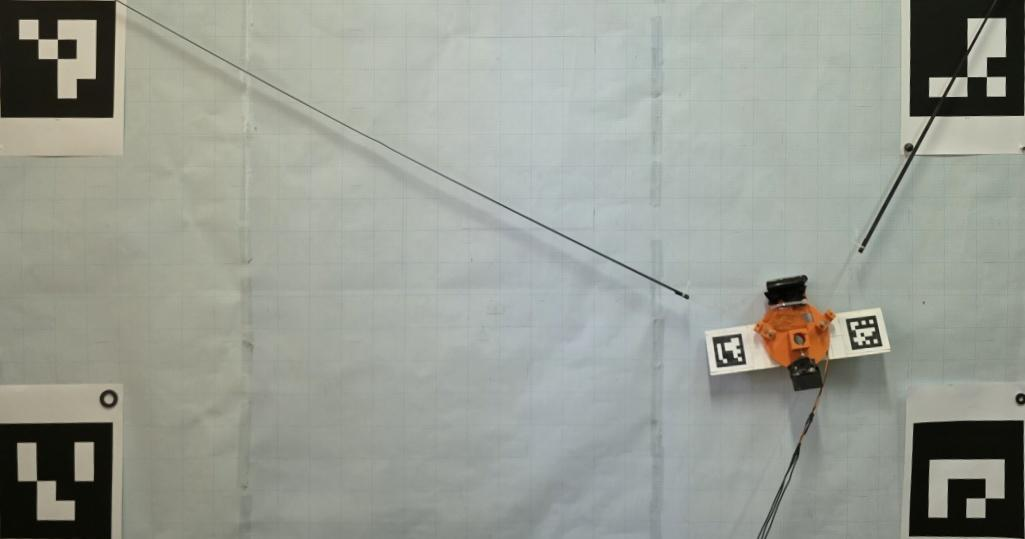robot: (754, 275, 835, 392)
